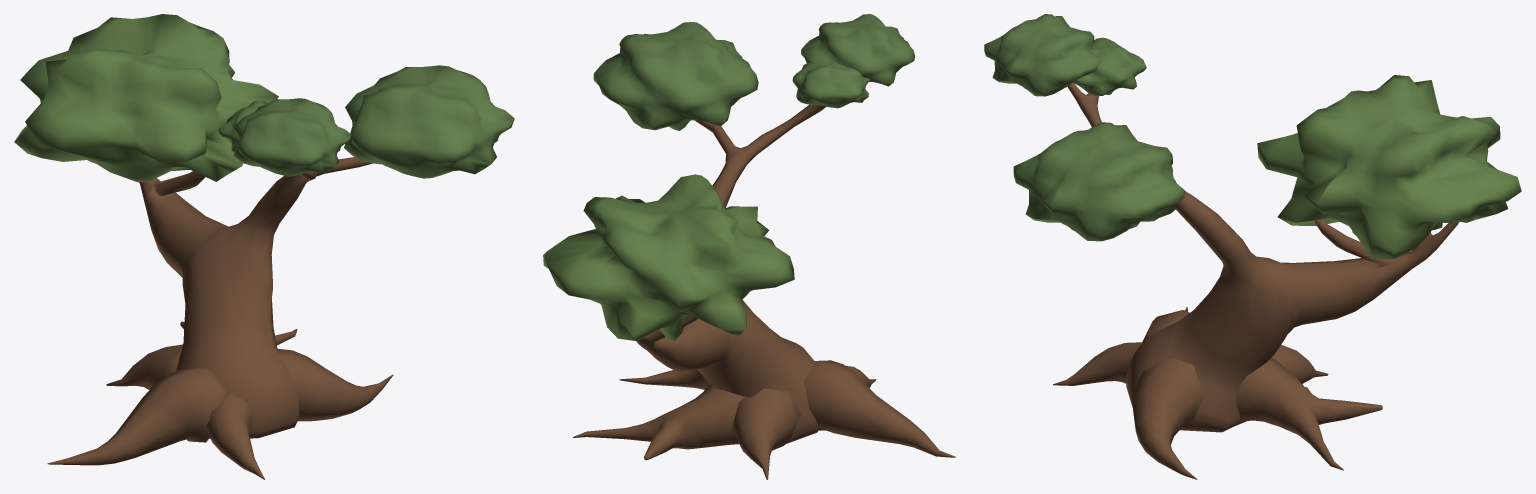
Rendered from tree4_2.fbx.
3 views of the same model, side by side, from view 1: azimuth 30°, elevation 25°; view 2: azimuth 150°, elevation 25°; view 3: azimuth 270°, elevation 25° (orthographic). The views are drawn at different scales.
Visible parts, largest first — view 1: BezierCurve.013; view 2: BezierCurve.013; view 3: BezierCurve.013.
Boxes of the visible parts, box(x1,y1,x2,y2) form: BezierCurve.013: box(14, 14, 514, 479); BezierCurve.013: box(543, 14, 955, 479); BezierCurve.013: box(984, 14, 1521, 479).
Bounding box in the file's own units: 2.98 × 2.63 × 3.38.
